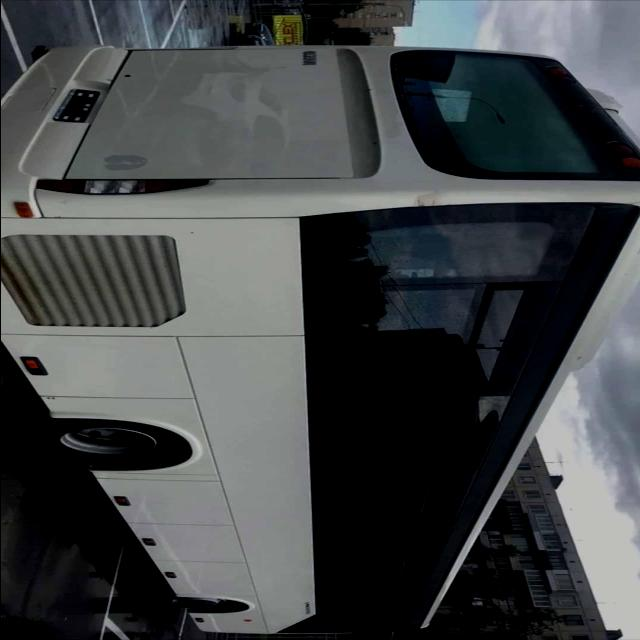bus: (1, 40, 640, 638)
